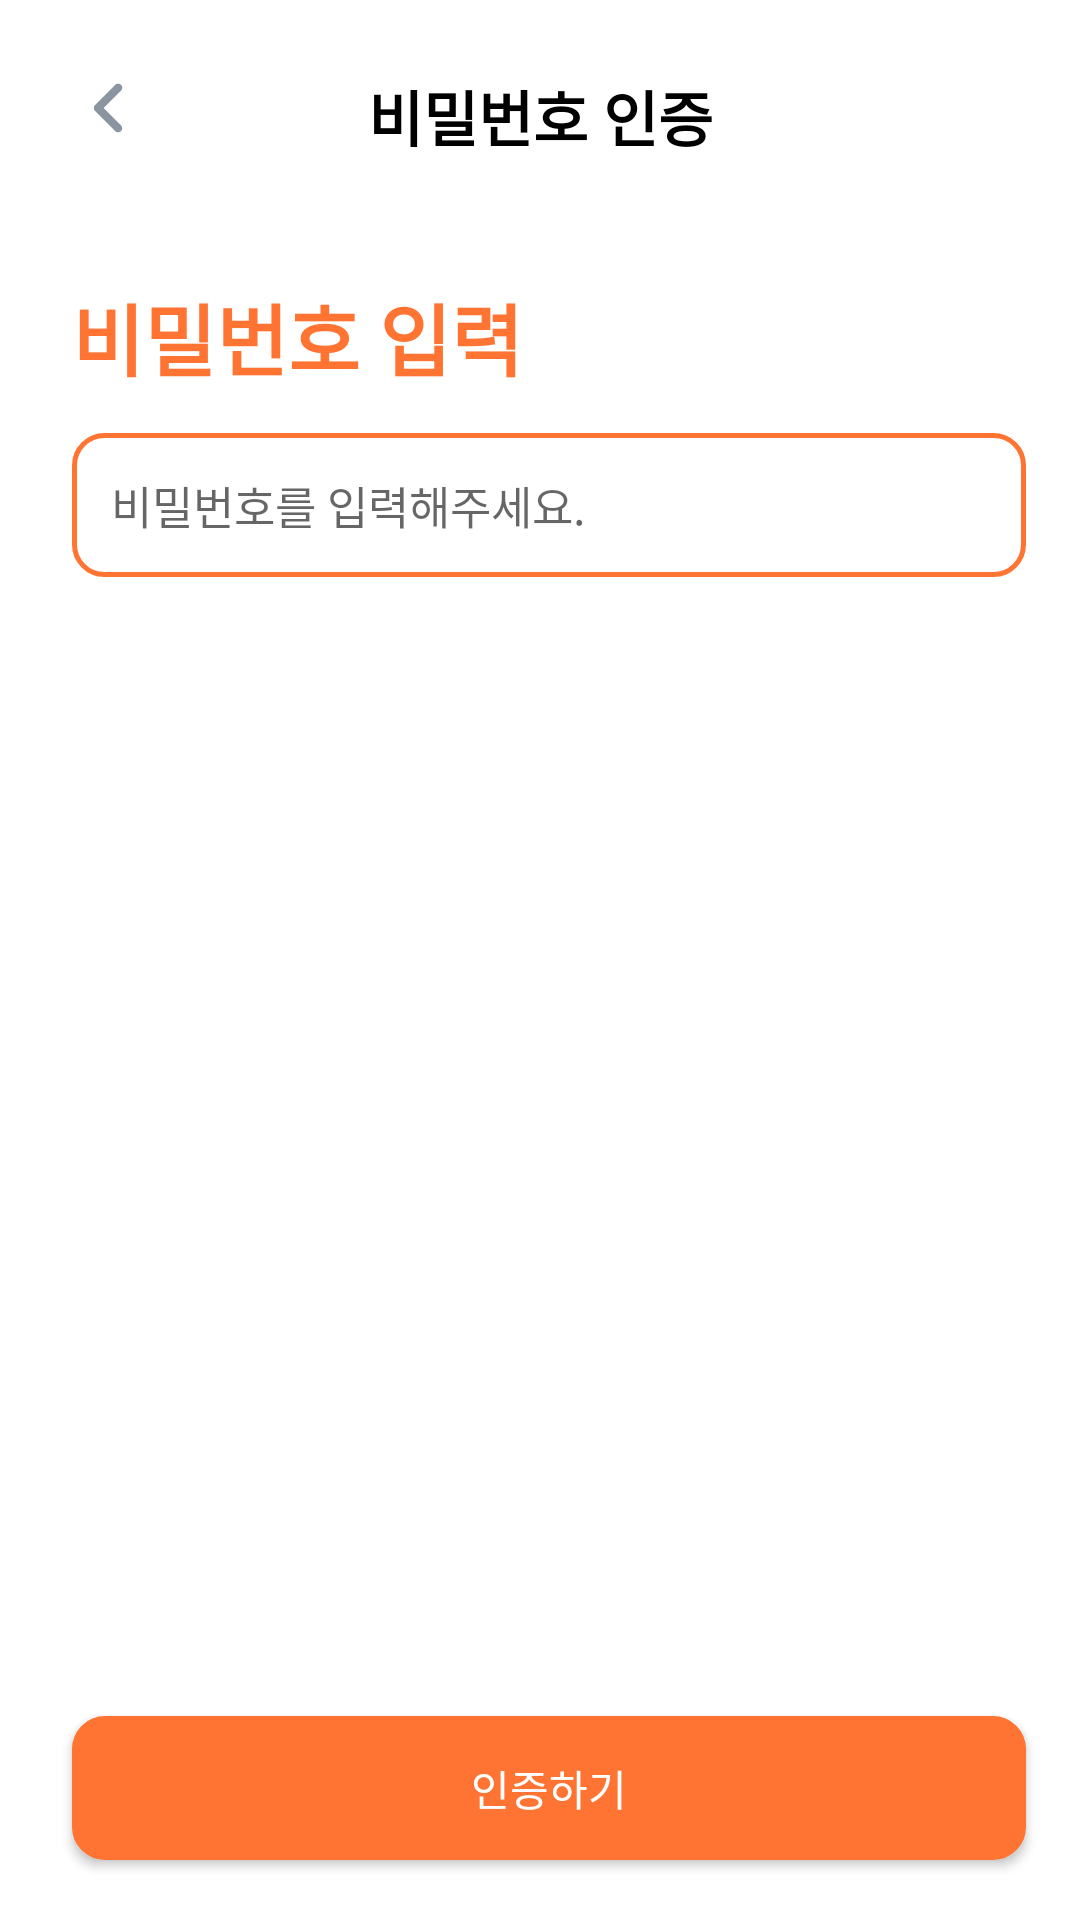

Icon bounding boxes for this 1080px×1920px phone screenshot, format (x1, y1, x2, y2):
arrow left mono: (94, 83, 123, 133)
